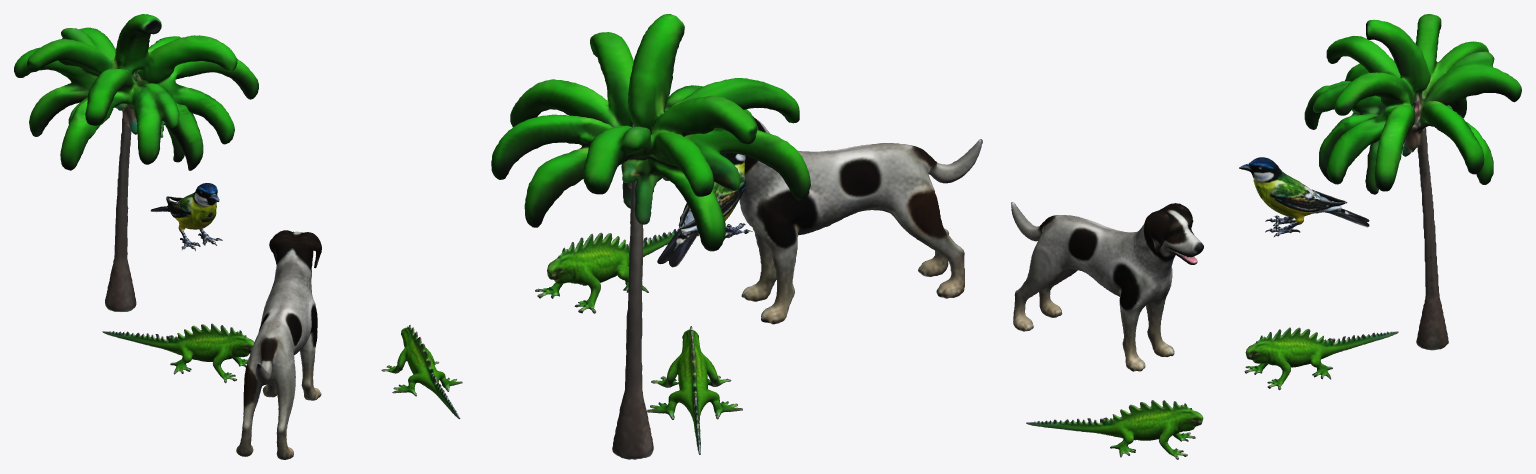
File: iguana1.glb
3 views of the same model, side by side, from view 1: azimuth 30°, elevation 25°; view 2: azimuth 150°, elevation 25°; view 3: azimuth 270°, elevation 25° (orthographic). The views are drawn at different scales.
Parts seen in each view (by area): view 1: Mesh_0.005, Mesh_0.001, Mesh_0, Mesh_0.003, Mesh_0.002; view 2: Mesh_0.005, Mesh_0.001, Mesh_0.003, Mesh_0, Mesh_0.002; view 3: Mesh_0.005, Mesh_0.001, Mesh_0.003, Mesh_0.002, Mesh_0.
Boxes of the visible parts, x1,y1,x2,y2 form: Mesh_0.005: (14,14,258,312); Mesh_0.001: (236,230,321,459); Mesh_0: (102,323,254,383); Mesh_0.003: (381,325,462,419); Mesh_0.002: (150,183,222,250); Mesh_0.005: (491,14,810,459); Mesh_0.001: (739,116,982,324); Mesh_0.003: (535,228,678,313); Mesh_0: (646,326,742,454); Mesh_0.002: (657,152,752,267); Mesh_0.005: (1304,14,1521,350); Mesh_0.001: (1011,202,1203,371); Mesh_0.003: (1026,400,1203,459); Mesh_0.002: (1239,157,1369,236); Mesh_0: (1244,327,1398,390).
Bounding box in the file's own units: 19.31 × 20.56 × 27.98.
Materials: 4 (4 with a texture image).
